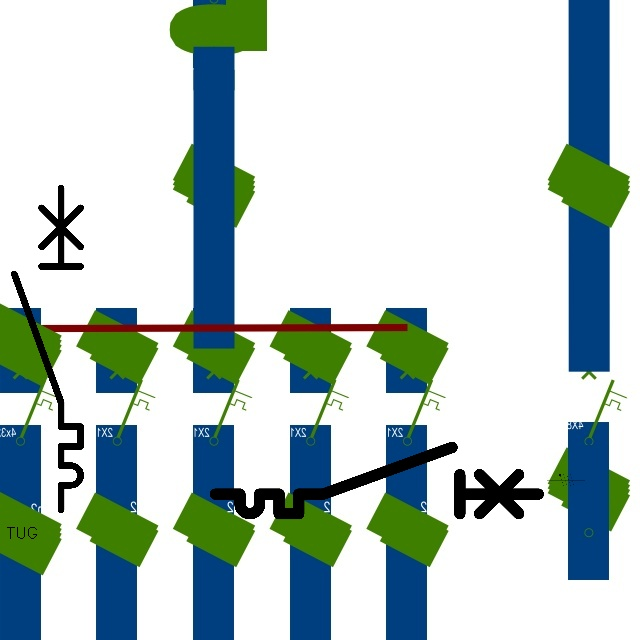interruptor_termomagnetico: (207, 439, 547, 522), (6, 180, 89, 518)
